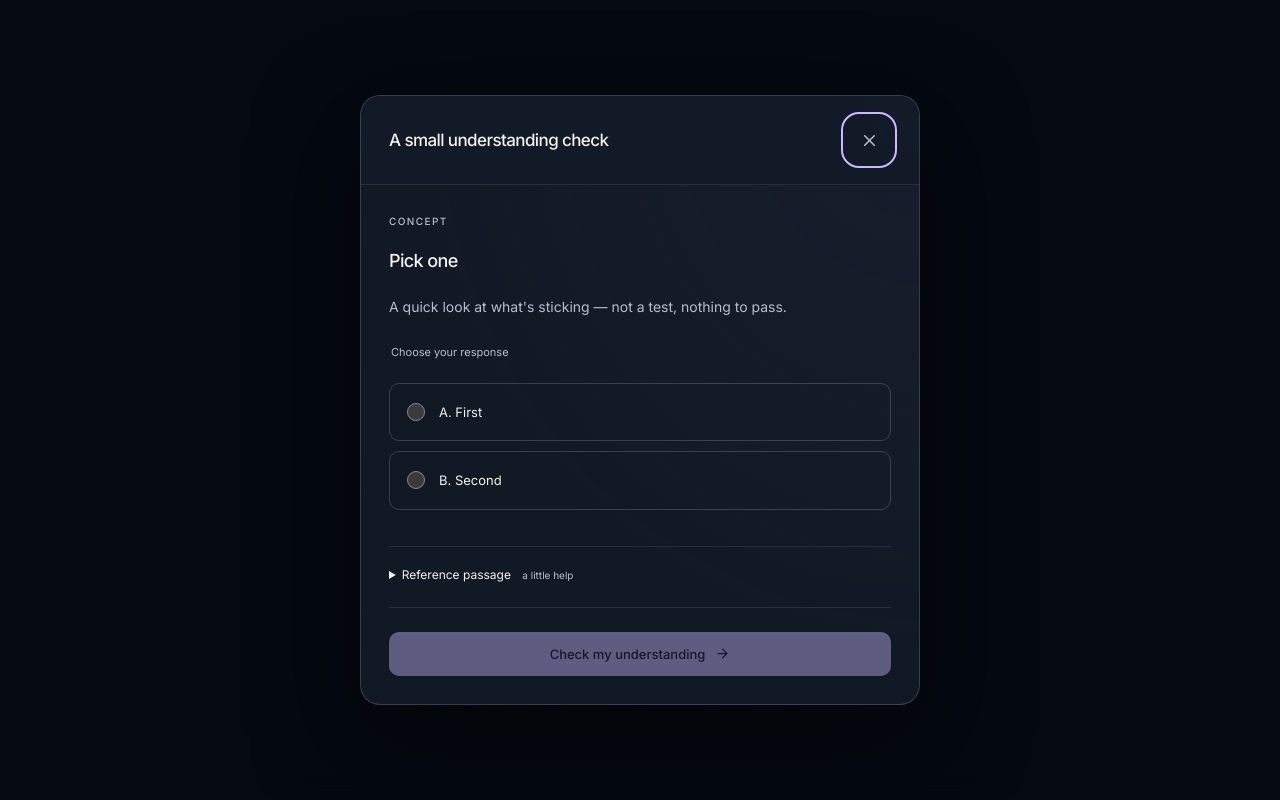
it: practice renders server options and returns exact issued evidence, not a self-score
Click the radio button labelled "B. Second": [416, 480] box [407,472,425,490]
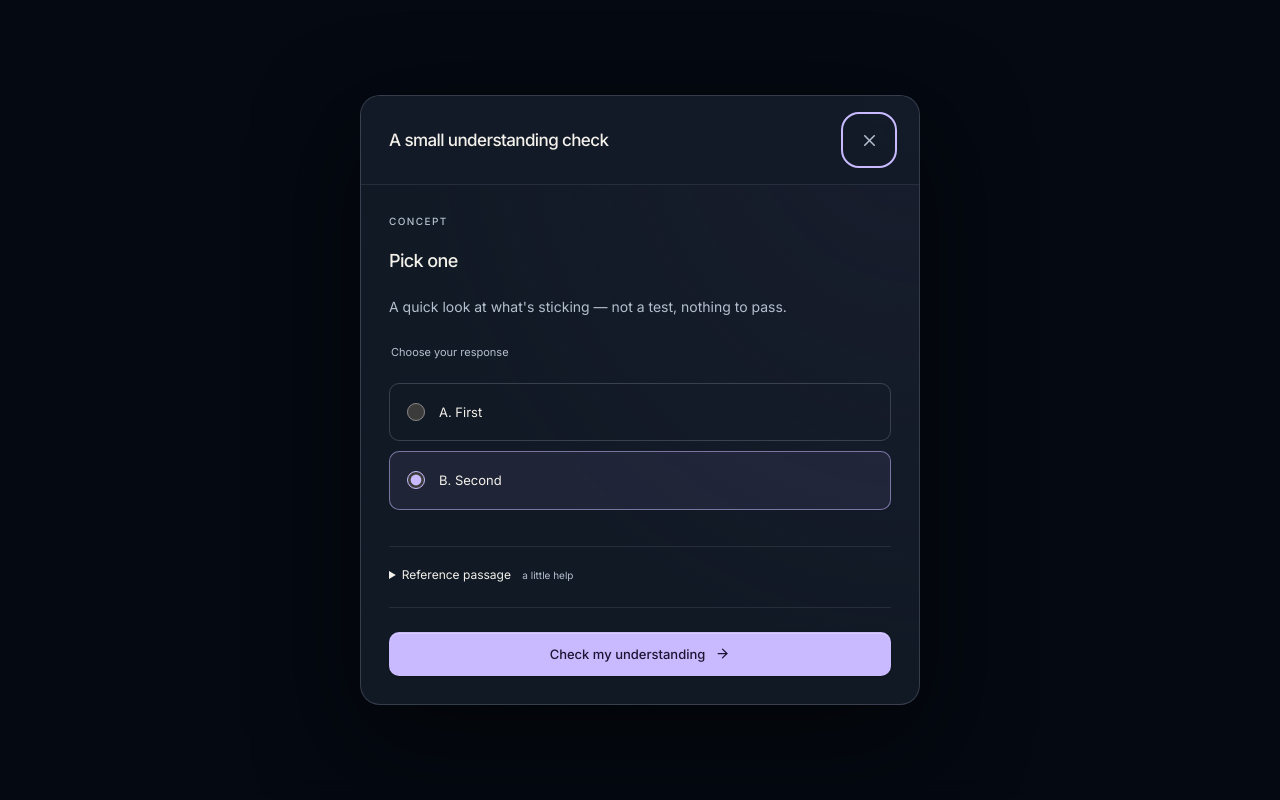
Click the button "Check my understanding": [640, 654] box [389,632,891,676]
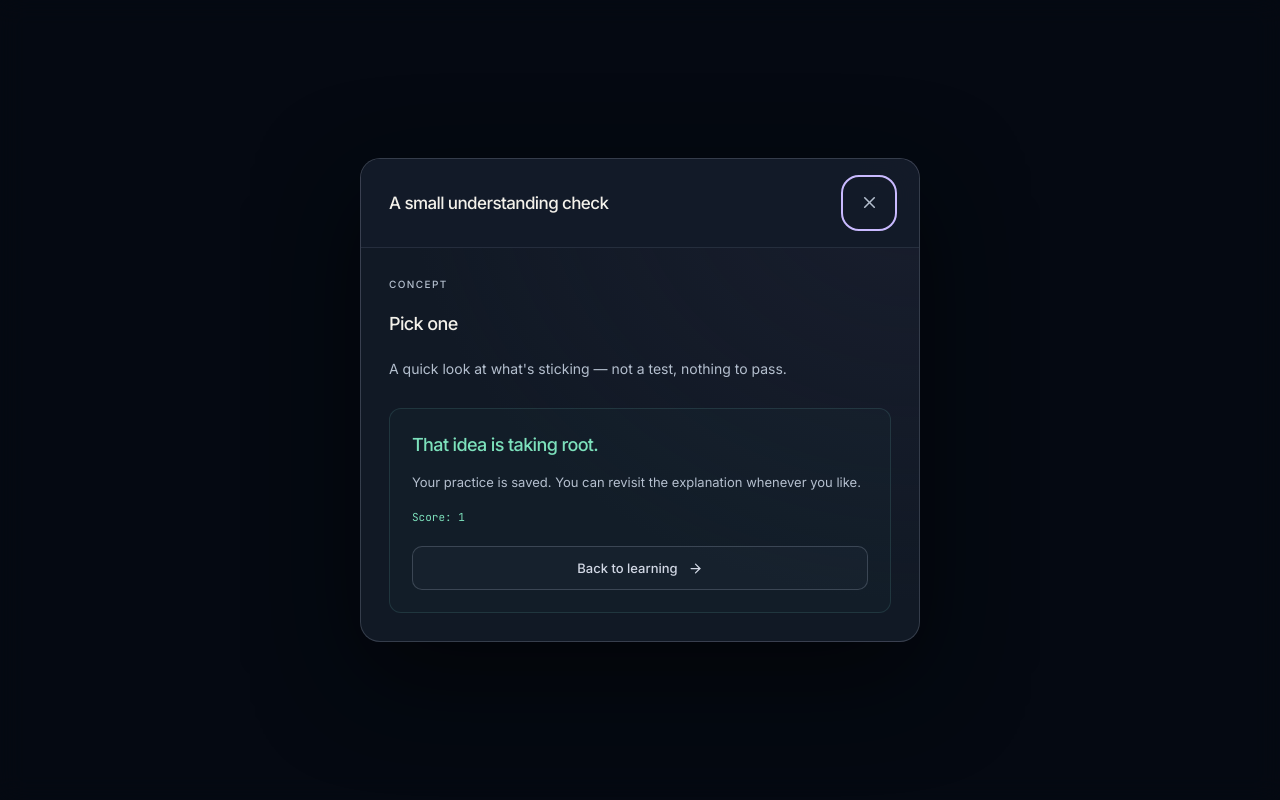
Check: the heading "That idea is taking root." is shown, box [412,434,598,454]
